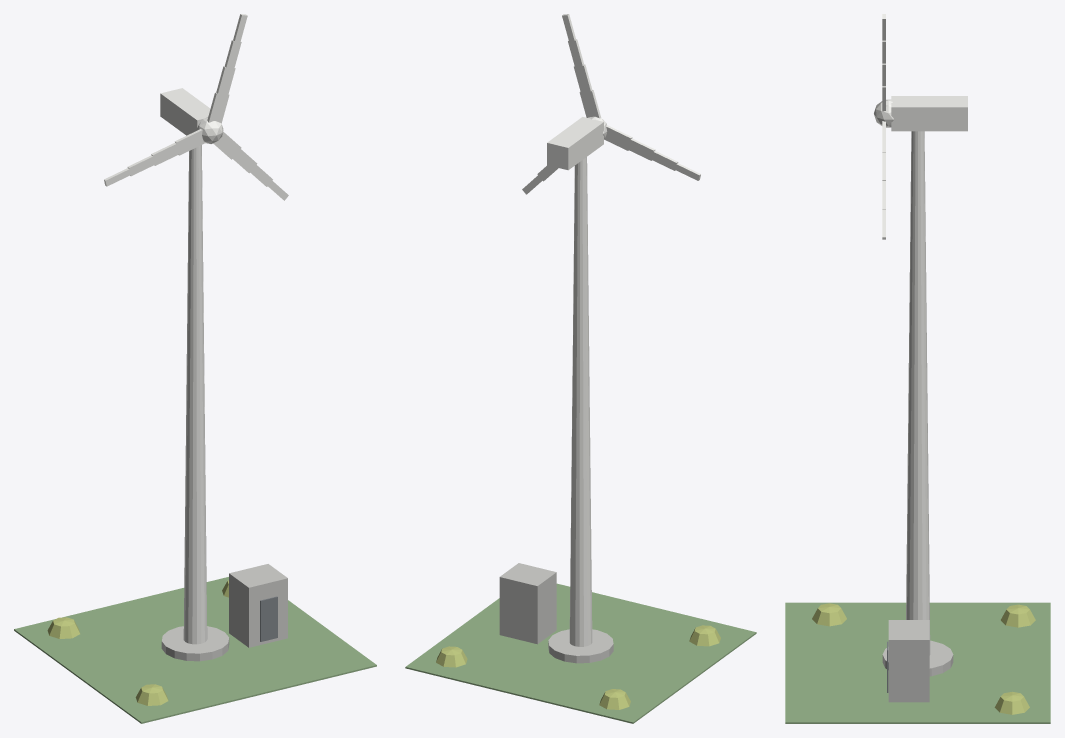
The model's file is wind.fbx.
3 views of the same model, side by side, from view 1: azimuth 30°, elevation 25°; view 2: azimuth 150°, elevation 25°; view 3: azimuth 270°, elevation 25° (orthographic). The views are drawn at different scales.
Parts seen in each view (by area): view 1: wind; view 2: wind; view 3: wind.
Part boxes in pixels (x1,y1,x2,y2): wind: (14,14,376,723); wind: (405,14,756,723); wind: (785,14,1050,723).
Size of the model in its own units: 960 by 2489 by 900.
